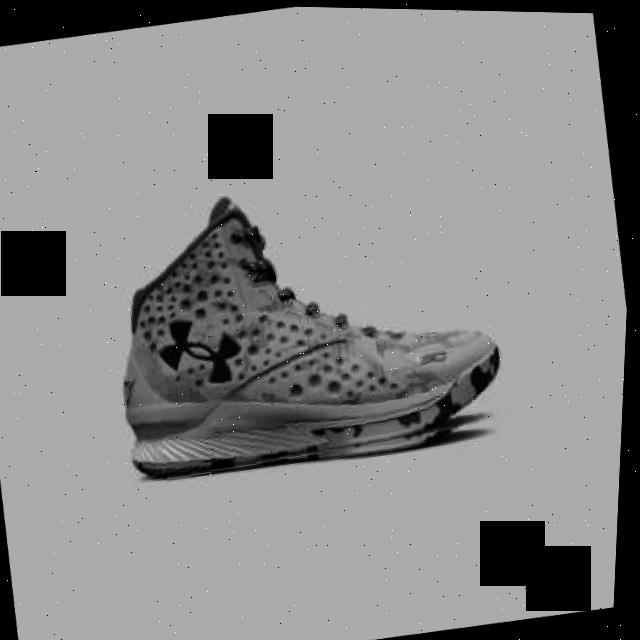shoe: (95, 153, 524, 492)
